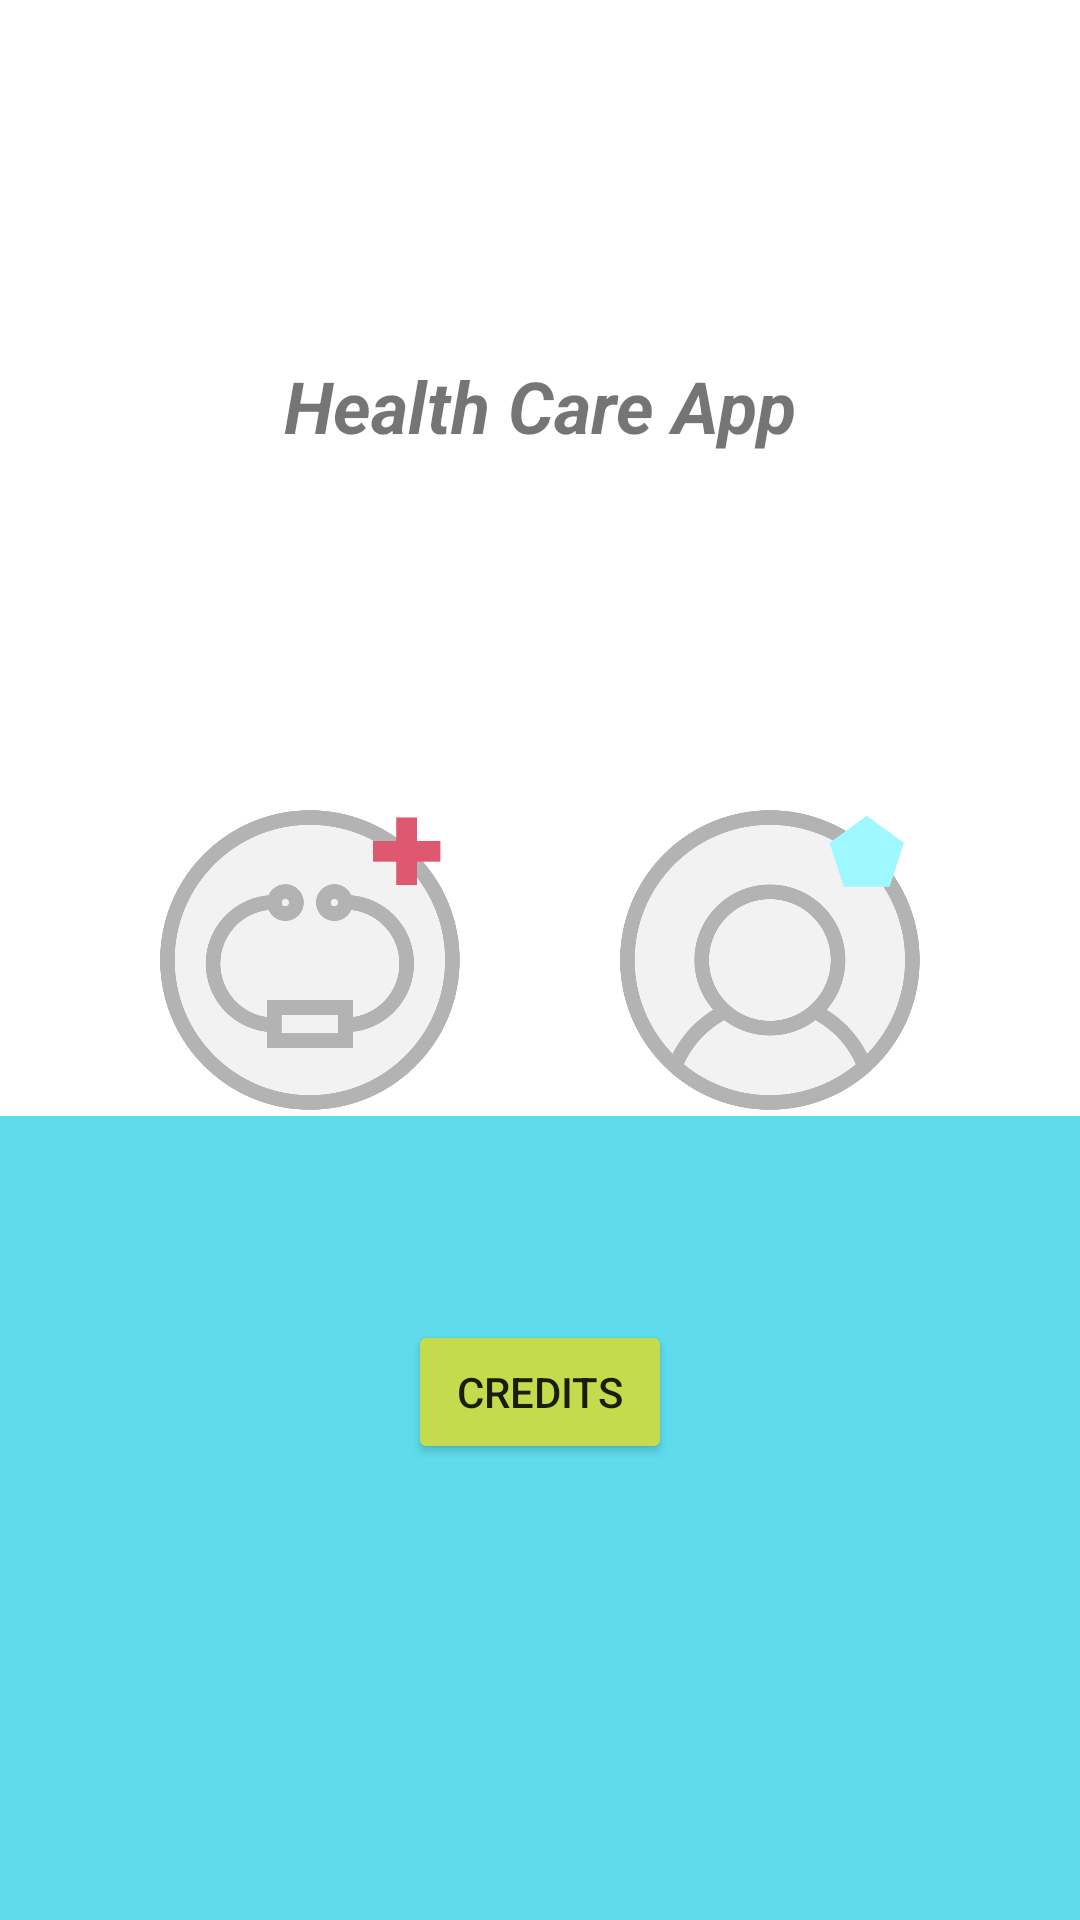

Icon click points for this 1080w x 1920h phone screenshot, format [x,y]:
doctor: [310,960]
patient: [770,960]
